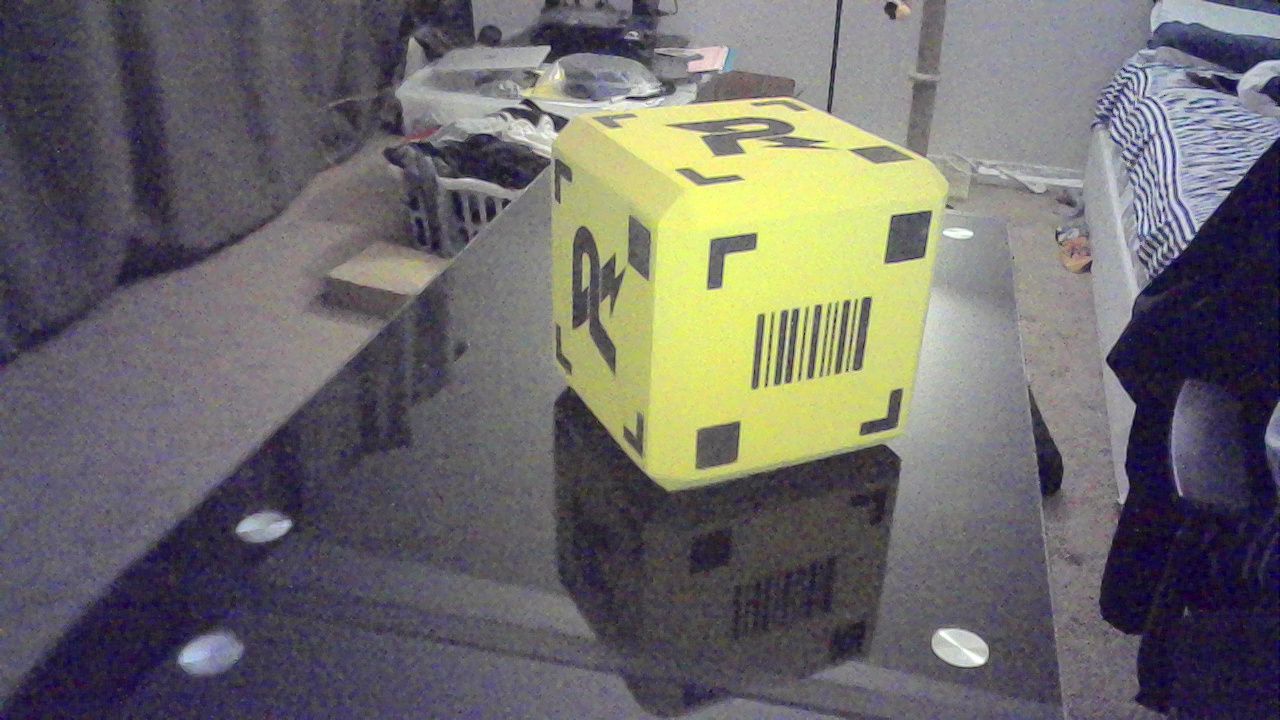Barcode: (751, 301, 887, 391)
R: (567, 226, 646, 381), (671, 116, 834, 162)
